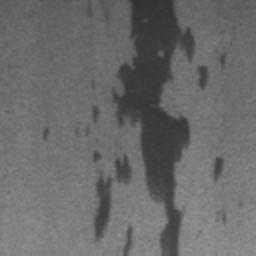Red iron sheet: (74, 0, 227, 256), (122, 225, 132, 256), (214, 156, 223, 177), (86, 0, 93, 17), (42, 127, 50, 140), (90, 78, 95, 88)
